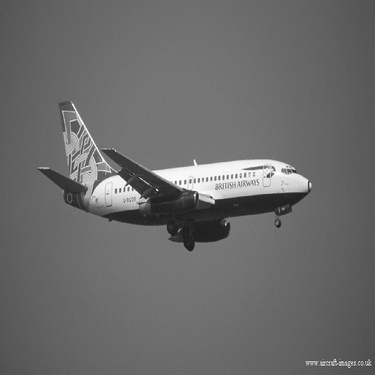airplane: (37, 87, 314, 252)
